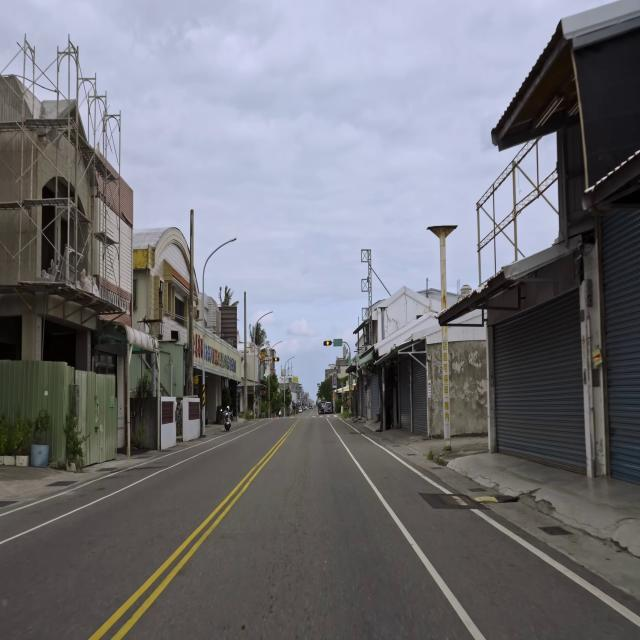yellow light: (323, 340, 332, 346), (272, 357, 280, 362)
